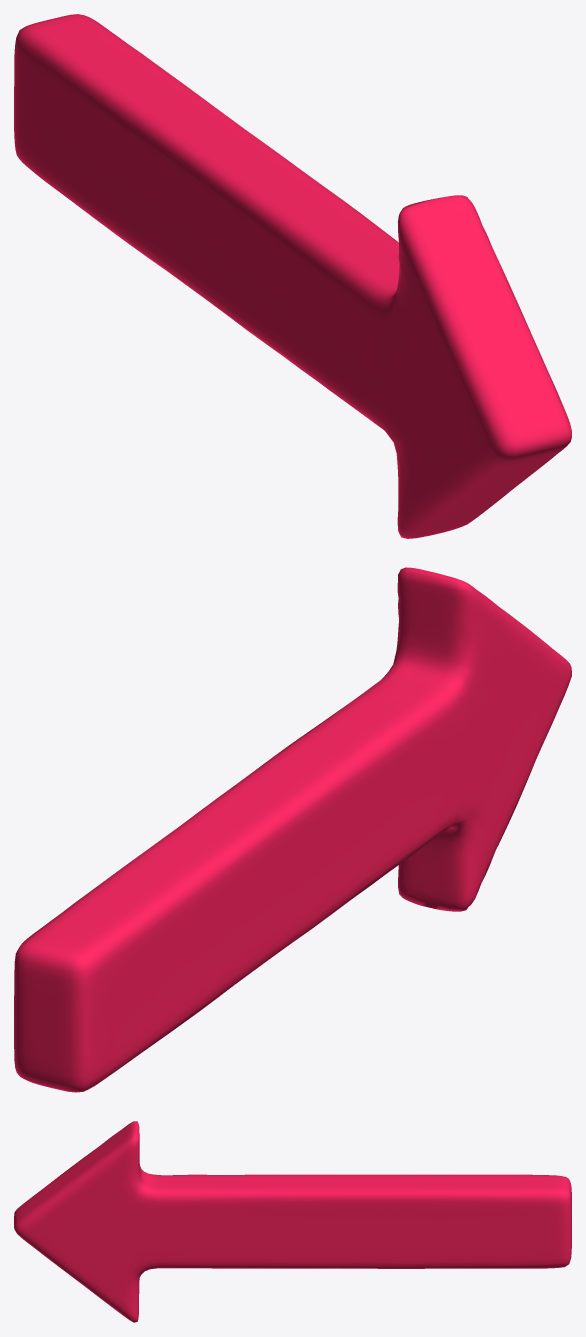
File: animated arrow 6.2.fbx
3 views of the same model, one above another, from view 1: azimuth 30°, elevation 25°; view 2: azimuth 150°, elevation 25°; view 3: azimuth 270°, elevation 25° (orthographic). The views are drawn at different scales.
Visible parts, largest first — view 1: node_id26; view 2: node_id26; view 3: node_id26.
Boxes of the visible parts, left/top/right/bottom form: node_id26: left=14, top=14, right=571, bottom=538; node_id26: left=14, top=567, right=571, bottom=1092; node_id26: left=14, top=1121, right=571, bottom=1322.
Bounding box in the file's own units: 0.0438 × 0.1823 × 0.4891.
